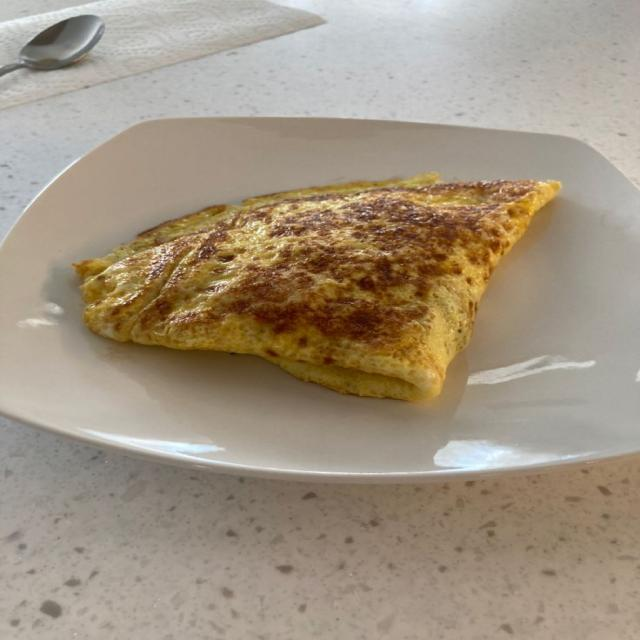omelette: (75, 175, 559, 400)
